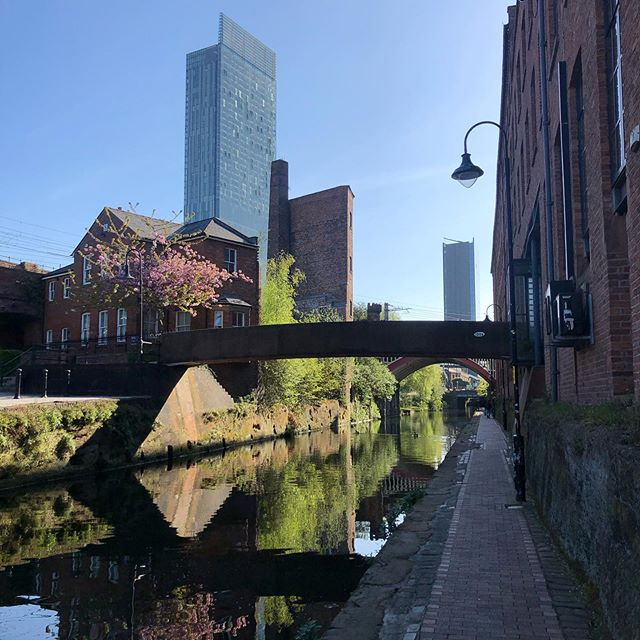bridge: (139, 285, 516, 422)
building: (487, 1, 640, 640), (32, 217, 255, 404), (183, 13, 280, 236), (272, 172, 352, 327), (438, 237, 475, 322)
river: (1, 413, 480, 640)
